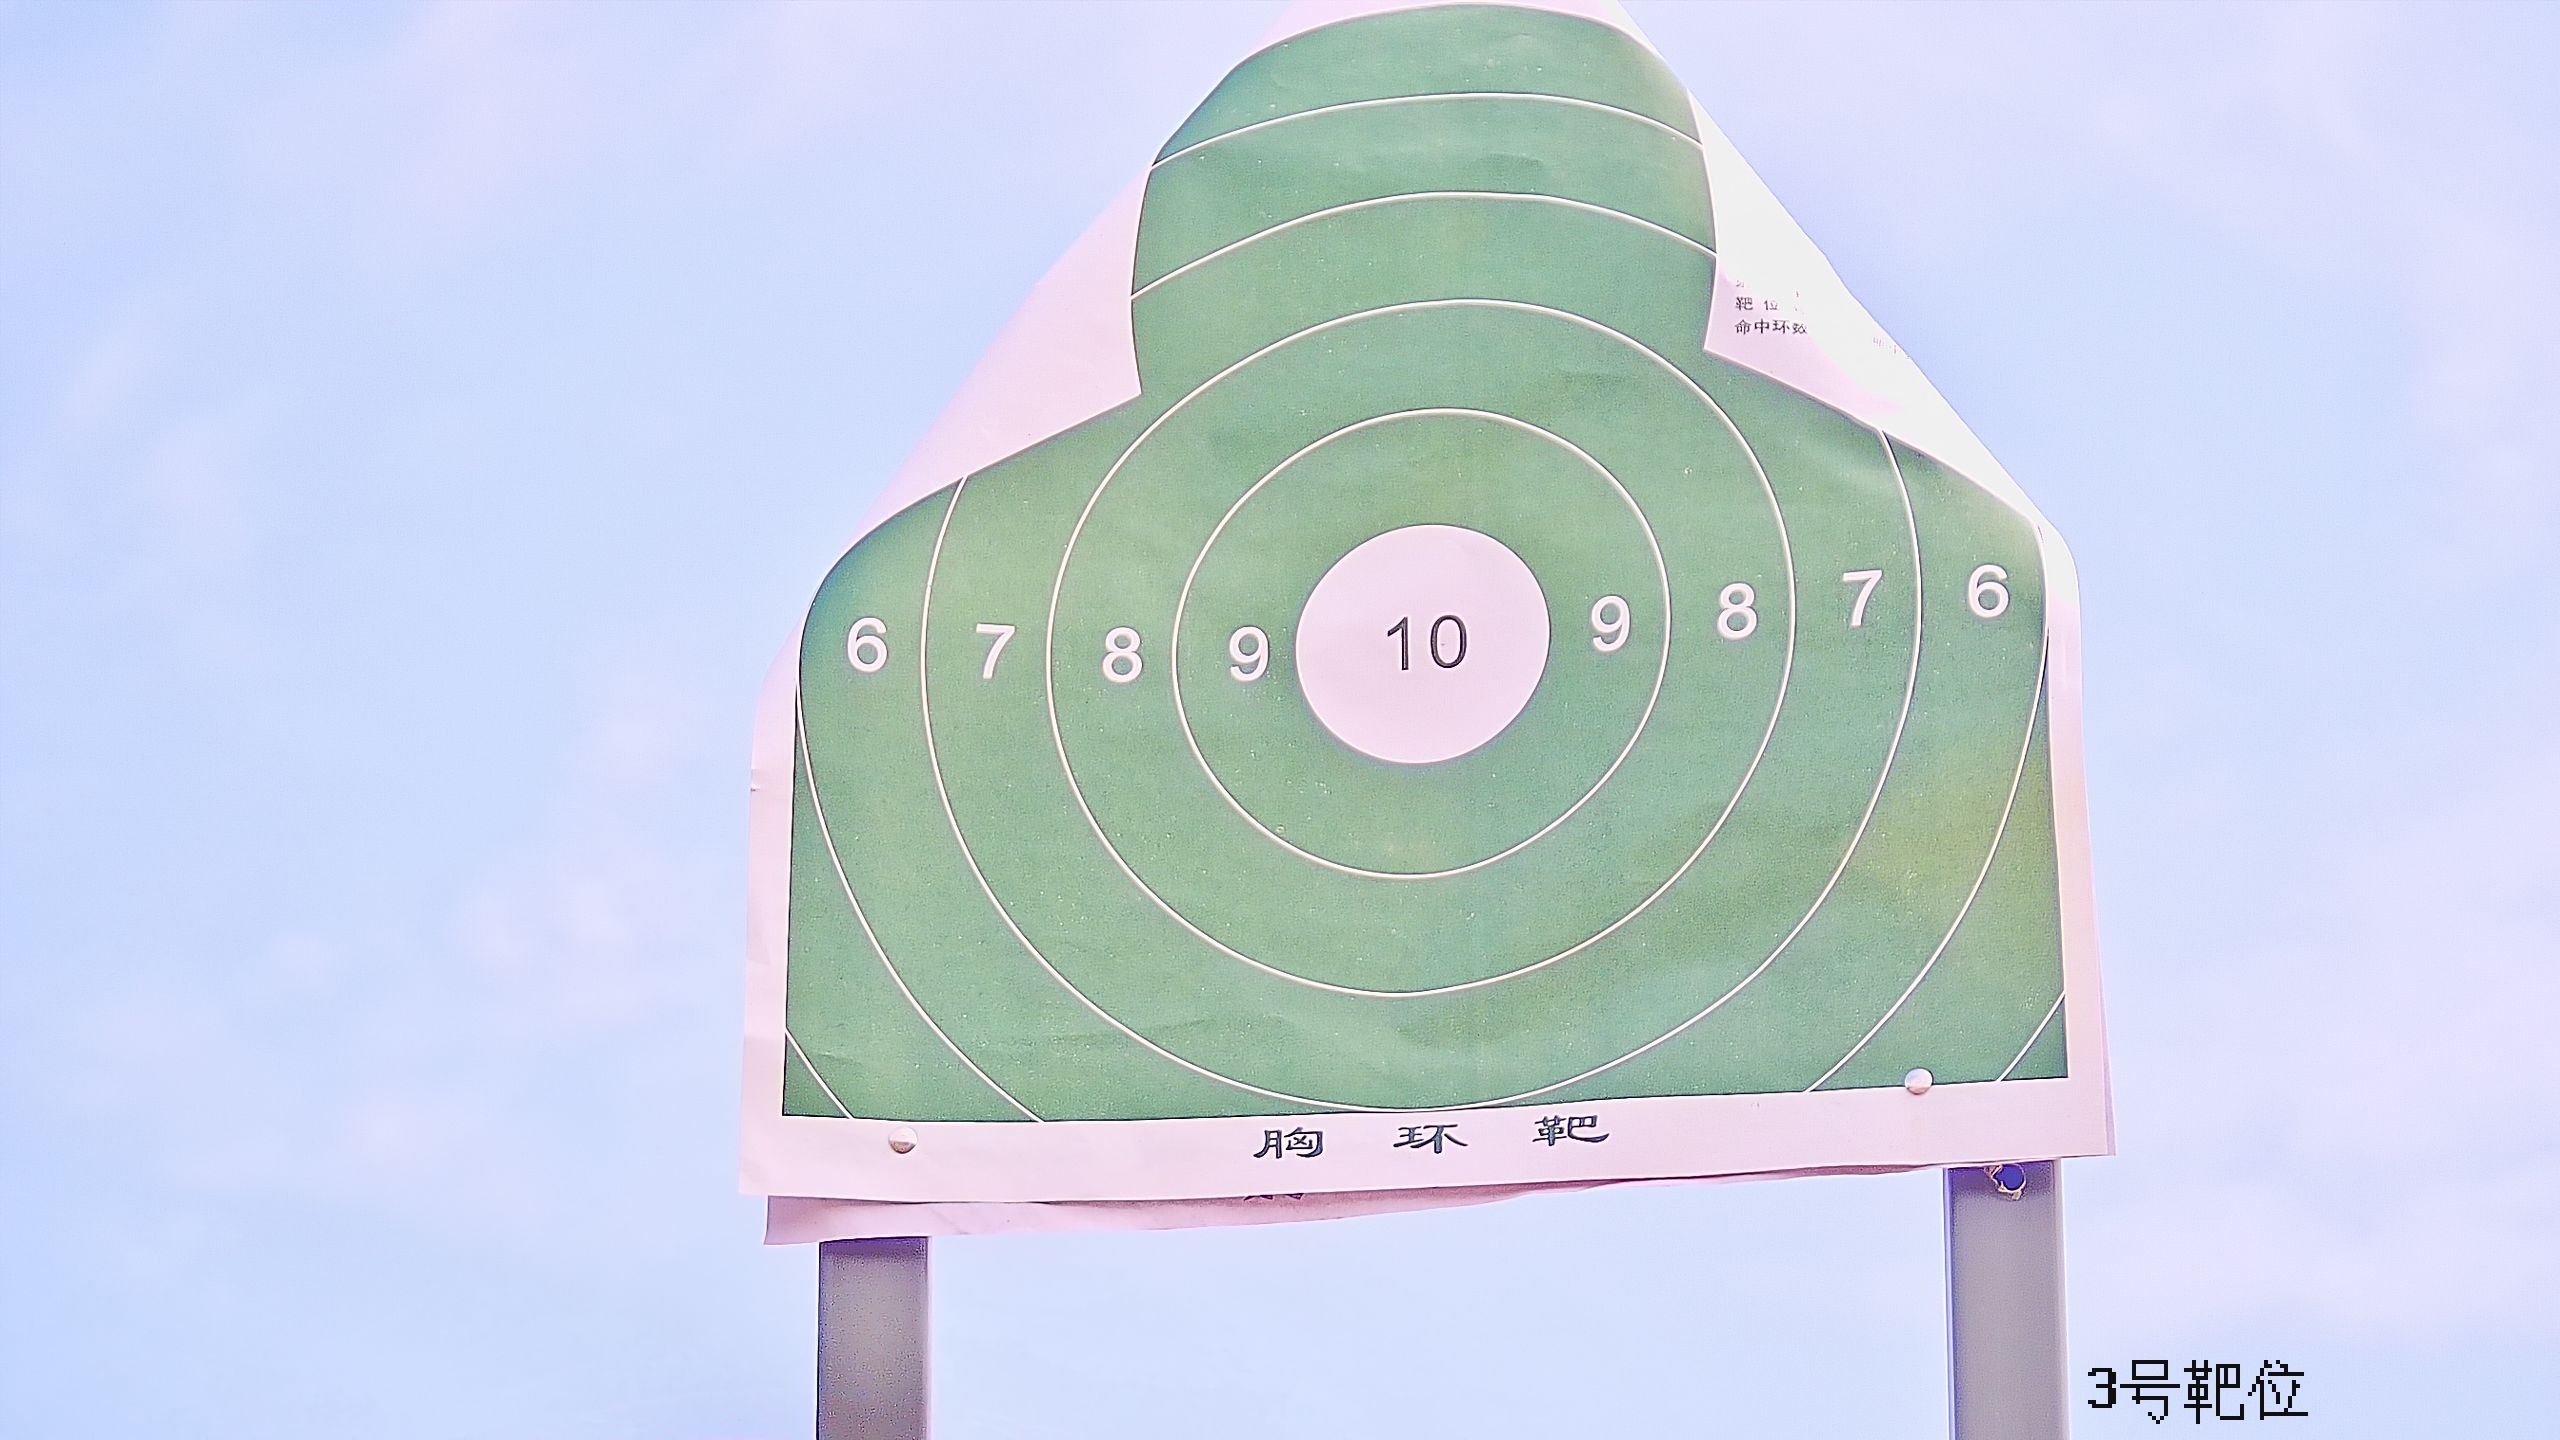target: (786, 7, 2076, 1127), (1417, 642, 1428, 651)
ten: (1292, 522, 1551, 768)
